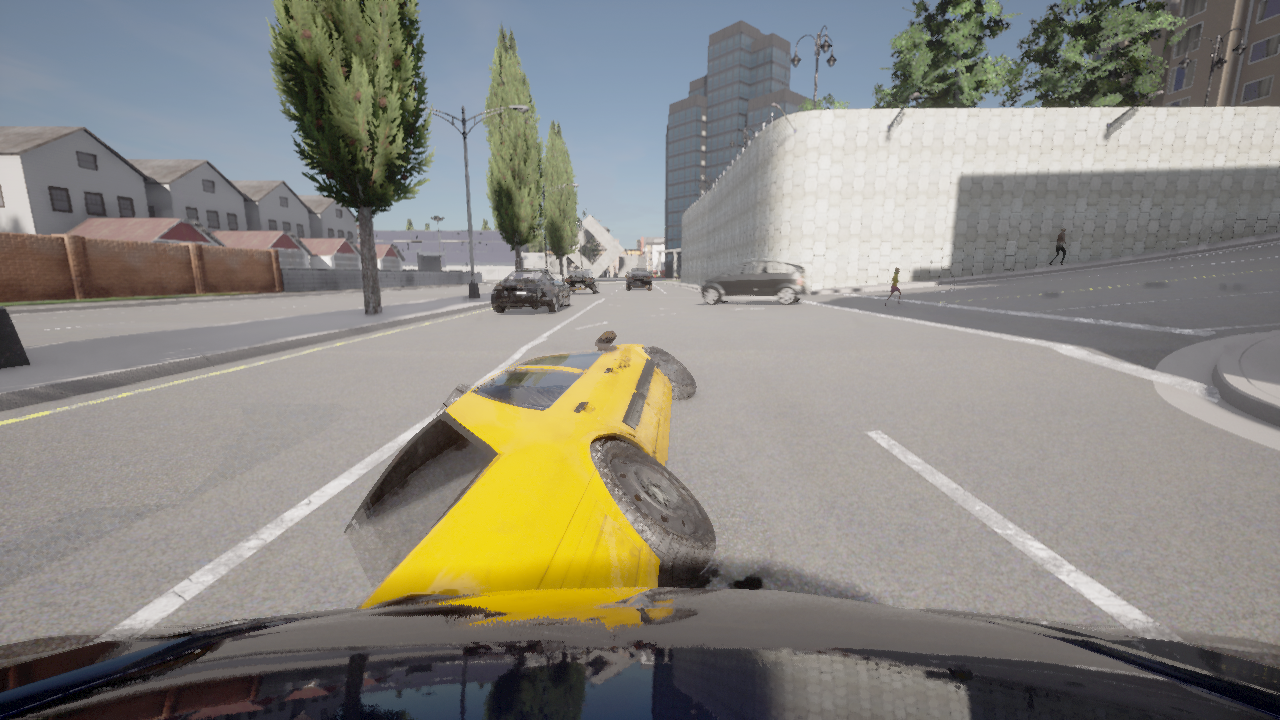cyclist: (0, 588, 1279, 719), (343, 330, 715, 610), (700, 260, 809, 305), (492, 269, 570, 313), (564, 268, 600, 295), (626, 269, 651, 290)
pedestrian: (884, 267, 905, 307), (1049, 227, 1067, 266)
